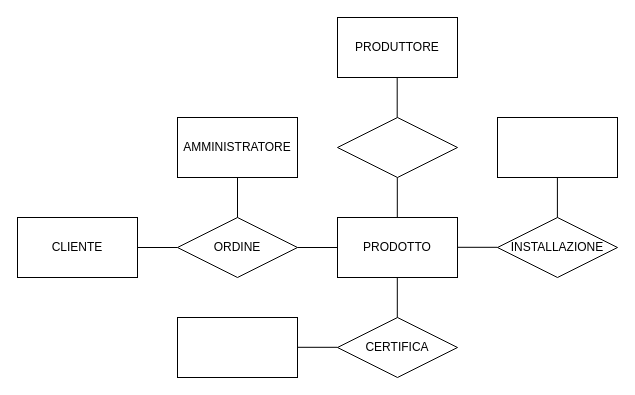
This 635x395 diagram has some shape labels left out. Here are the shapes that lost their labels. From the top down, the box of each, then its label:
(336, 116, 458, 178): CREAZIONE
(496, 116, 618, 178): INSTALLATORE
(176, 316, 298, 378): CERTIFICAZIONE
